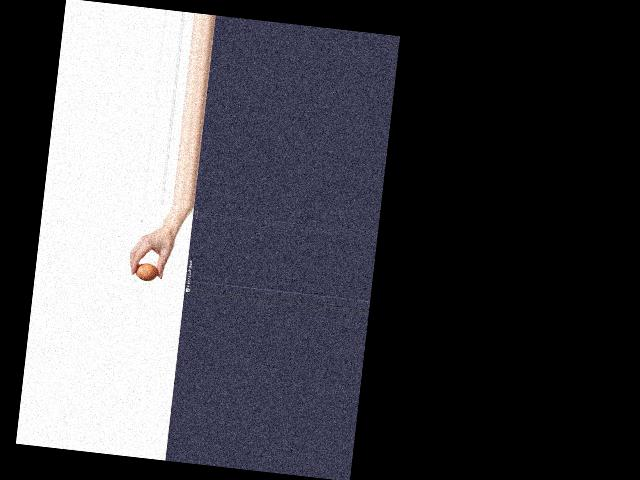egg: (135, 261, 158, 281)
